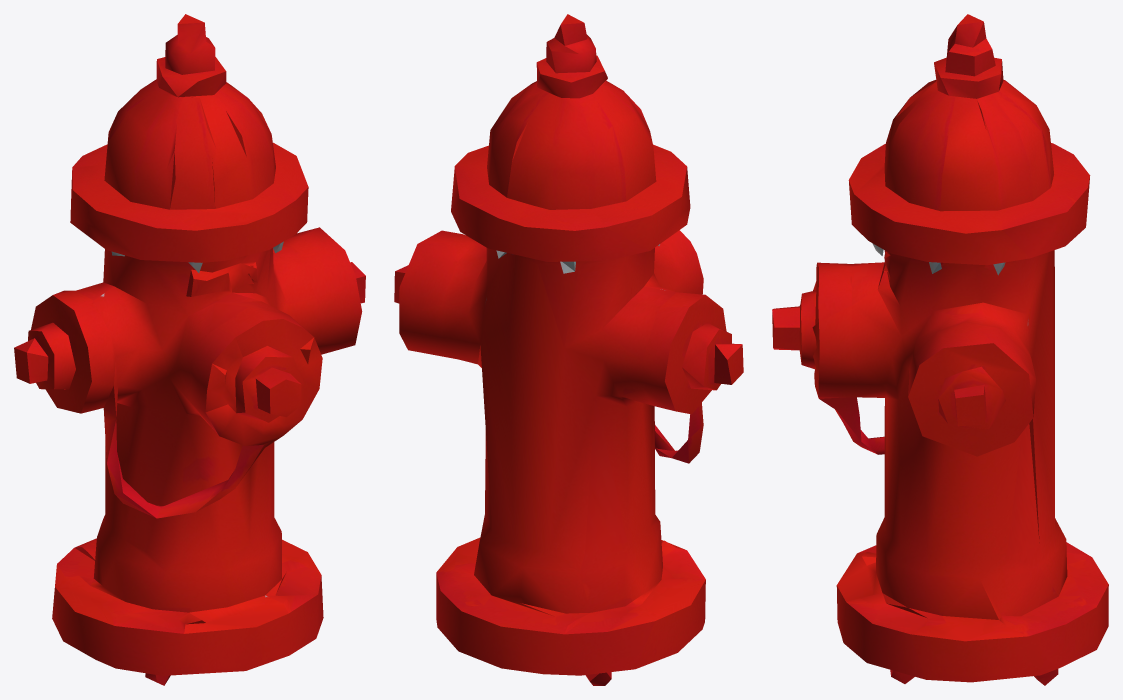
File: fire-3-sm.glb
3 views of the same model, side by side, from view 1: azimuth 30°, elevation 25°; view 2: azimuth 150°, elevation 25°; view 3: azimuth 270°, elevation 25° (orthographic).
Parts seen in each view (by area): view 1: world; view 2: world; view 3: world.
Boxes of the visible parts, x1=… form: world: x1=14, y1=14, x2=365, y2=685; world: x1=394, y1=14, x2=743, y2=685; world: x1=772, y1=14, x2=1108, y2=685.
Bounding box in the file's own units: 1.12 × 2 × 0.9629.
Materials: 1 (1 with a texture image).
